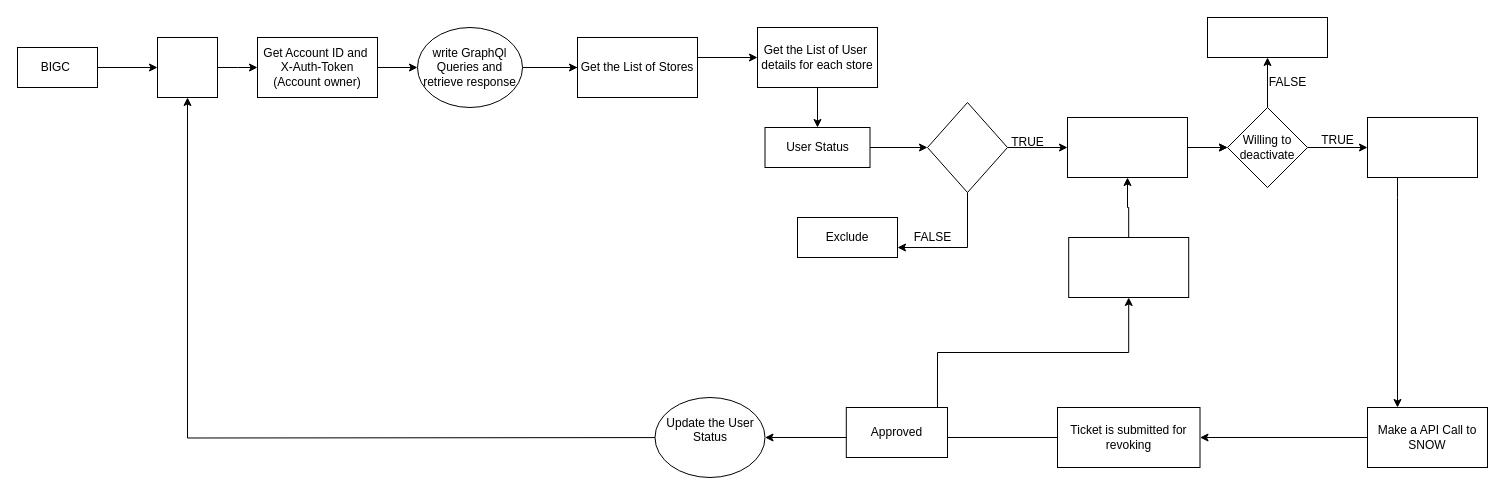
Image size: 1505x495. Some labels were removed from this diagram. The shapes that lost their labels are listed below. From the top down, each one's centre as x and y in pixels, then its label:
the point at 1267,37: Ignore
the point at 187,67: Account
the point at 967,147: Active
the point at 1127,147: Trigger the Email to SPOC
the point at 1422,147: Click on Deactivate button
the point at 1128,267: Confirmation email is sent
